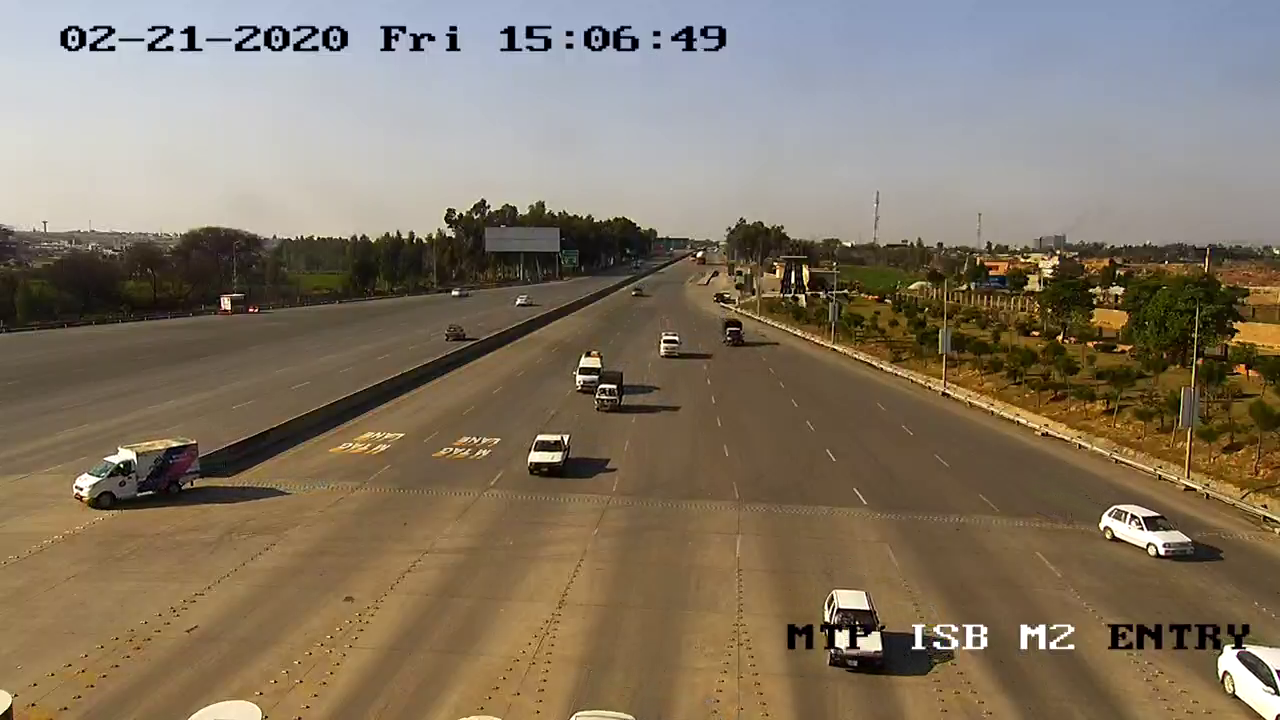f1: (1095, 497, 1203, 566), (511, 423, 579, 486)
